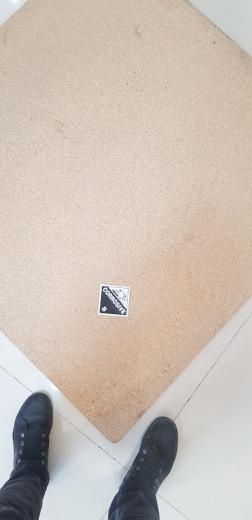Corrosive: (98, 284, 130, 317)
